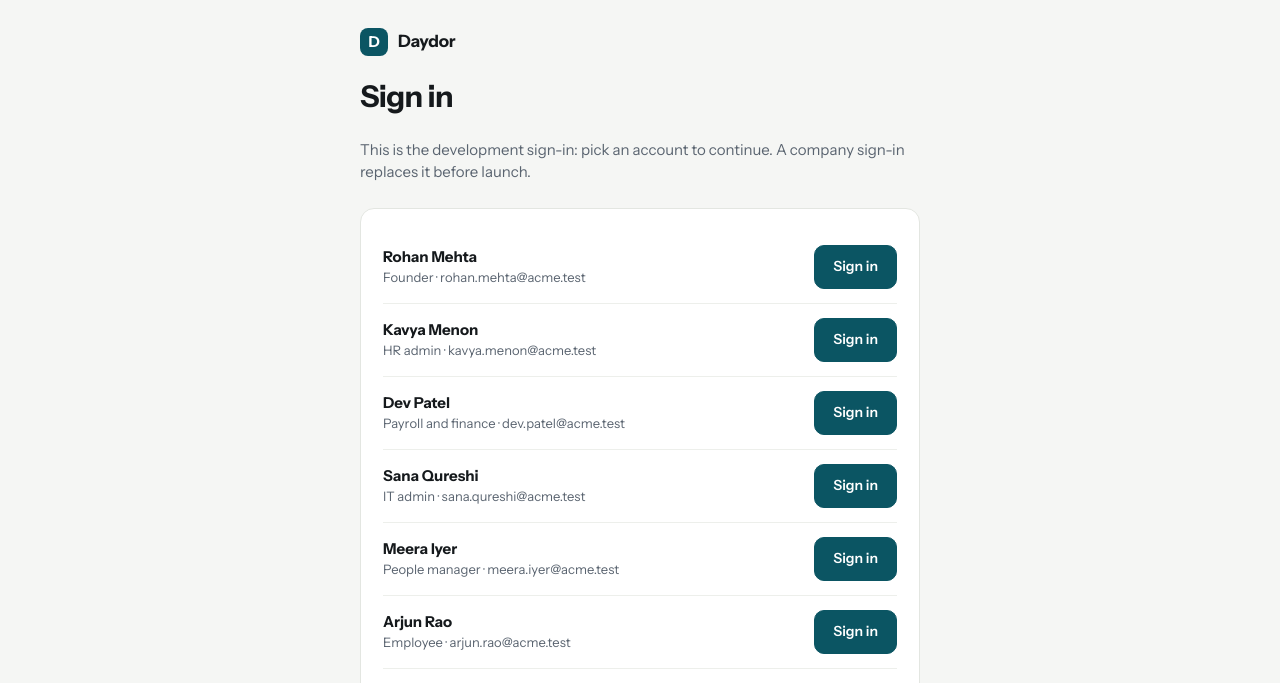
Test: approval details, for a role that can read workflows › shows the paused workflow, then moves it on when the founder approves
The image size is (1280, 683).
Click the button "Sign in" in the row of "Rohan Mehta" at {"x": 856, "y": 266}, box [814,244,897,288]
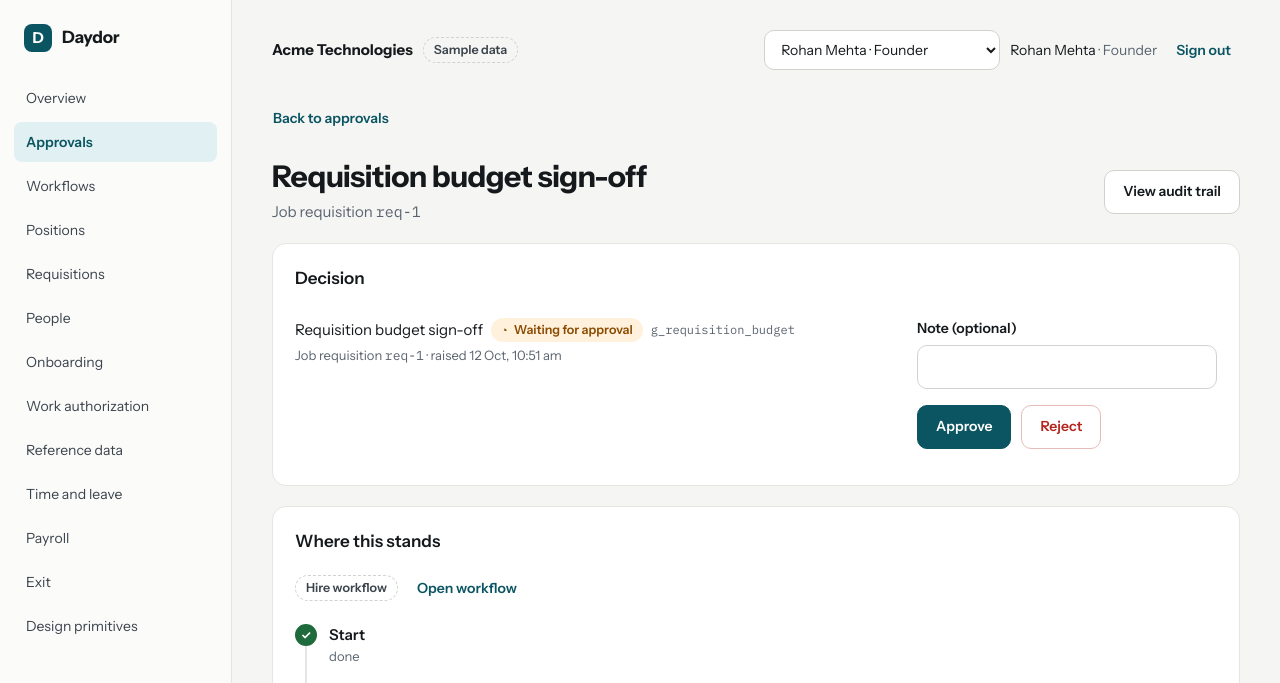
Type "Within plan" into the field labelled "Note (optional)" at {"x": 1067, "y": 366}, box [917,344,1217,388]
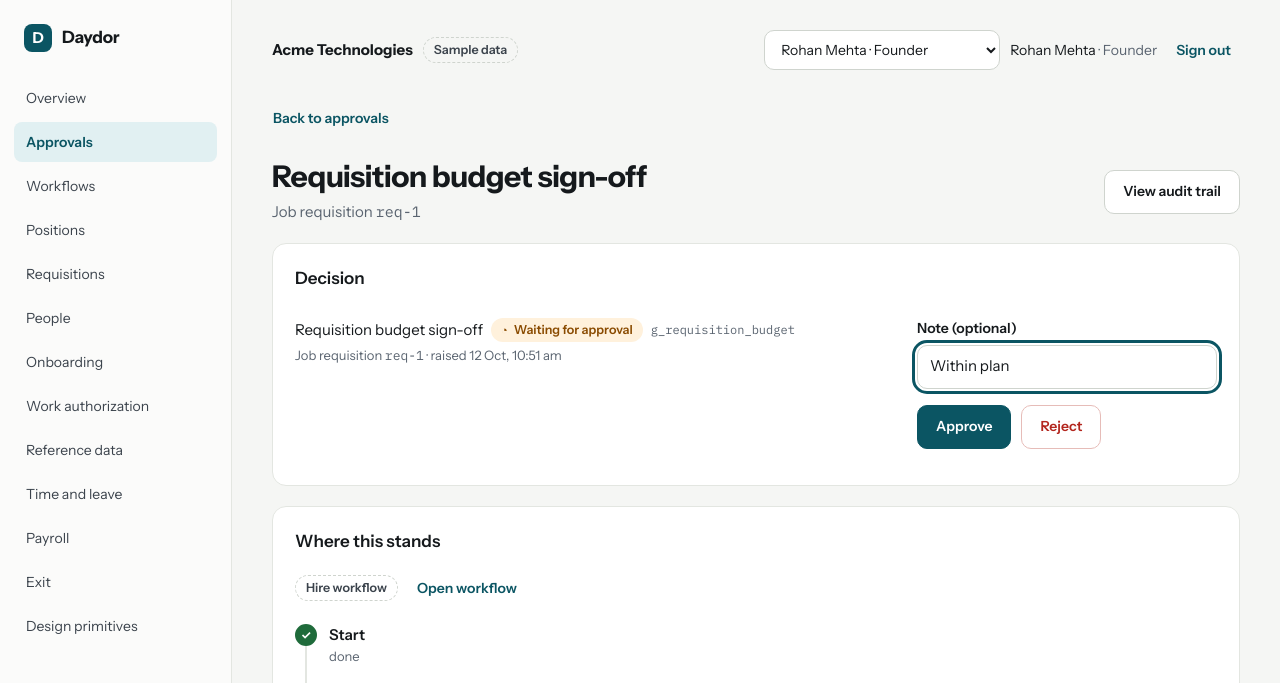
Click the button "Approve" at {"x": 964, "y": 426}, box [917,404,1012,448]
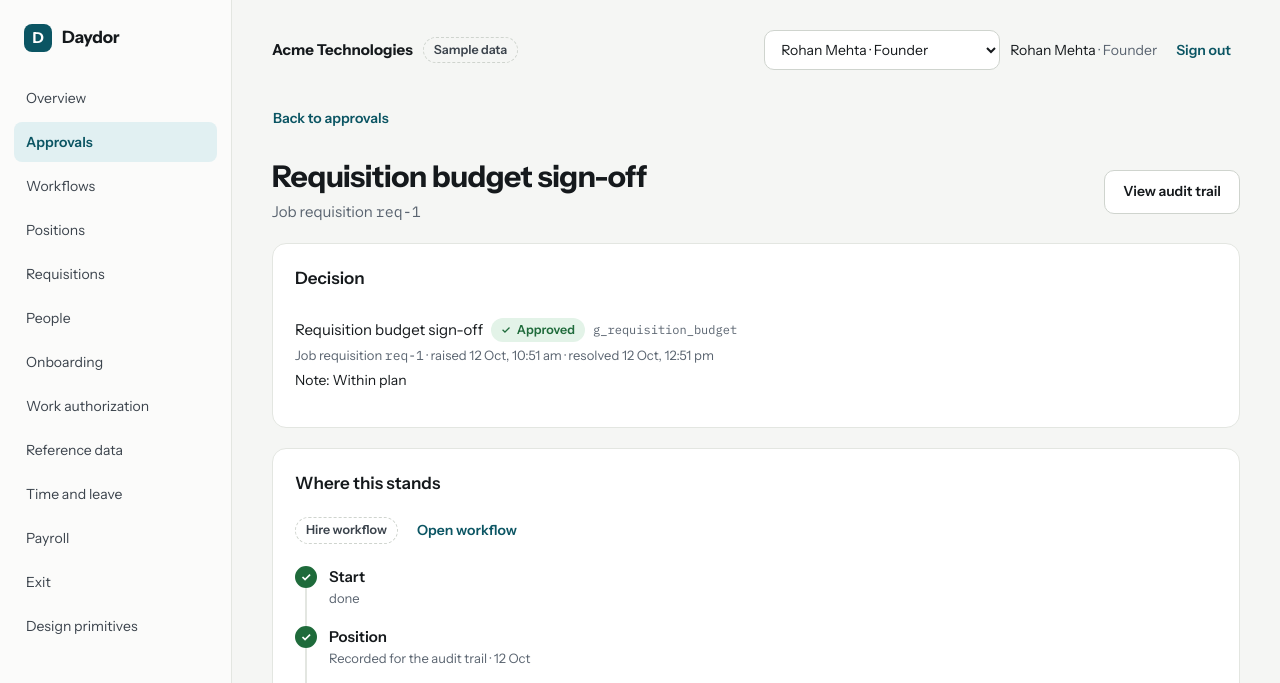
Result: the text "Note: Within plan" is shown at [295,371,407,389]
